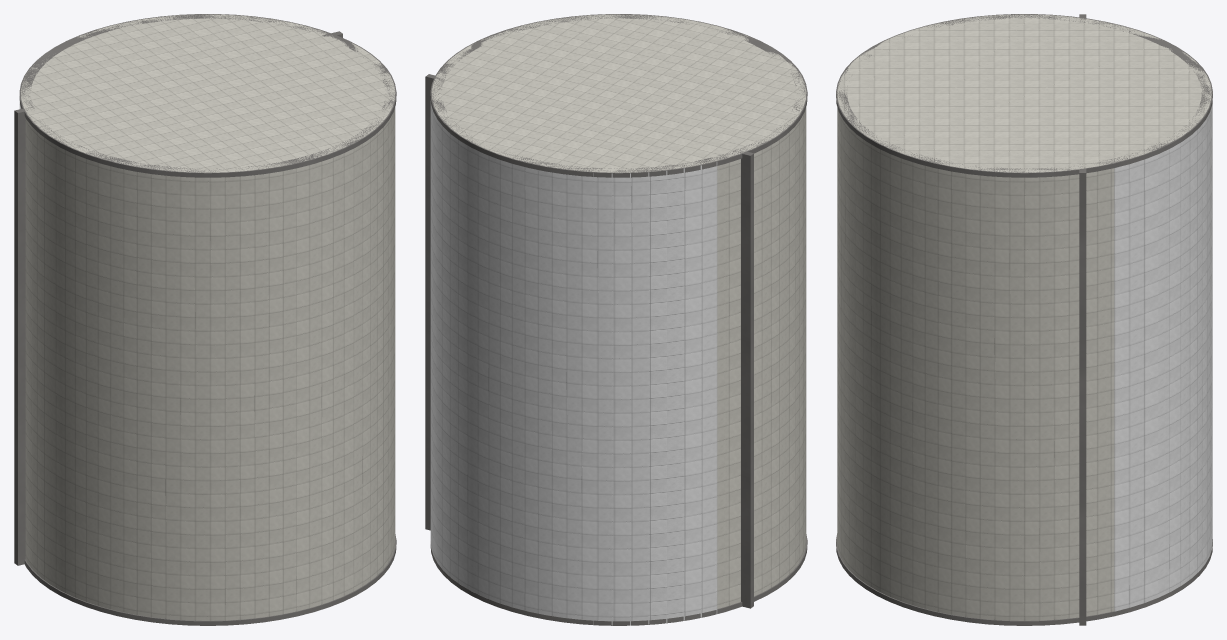
Rendered from aero02_mk3_fuselage_tank_500.glb.
The picture shows the model from 3 angles, left to right: view 1: azimuth 30°, elevation 25°; view 2: azimuth 150°, elevation 25°; view 3: azimuth 270°, elevation 25°; orthographic projection.
Parts seen in each view (by area): view 1: fuselage, end_frames, chines; view 2: belly_tiles, fuselage, chines, end_frames; view 3: fuselage, belly_tiles, end_frames, chines.
Part boxes in pixels (x1,y1,x2,y2): fuselage: (20,14,395,620); end_frames: (19,14,396,625); chines: (14,31,342,565); belly_tiles: (430,101,717,625); fuselage: (431,14,806,608); chines: (425,74,753,608); end_frames: (430,14,807,625); fuselage: (837,14,1211,620); belly_tiles: (1114,104,1212,611); end_frames: (836,14,1212,625); chines: (1079,14,1086,625).
Bounding box in the file's own units: 3.77 × 5 × 3.77.
Materials: 3 (3 with a texture image).
